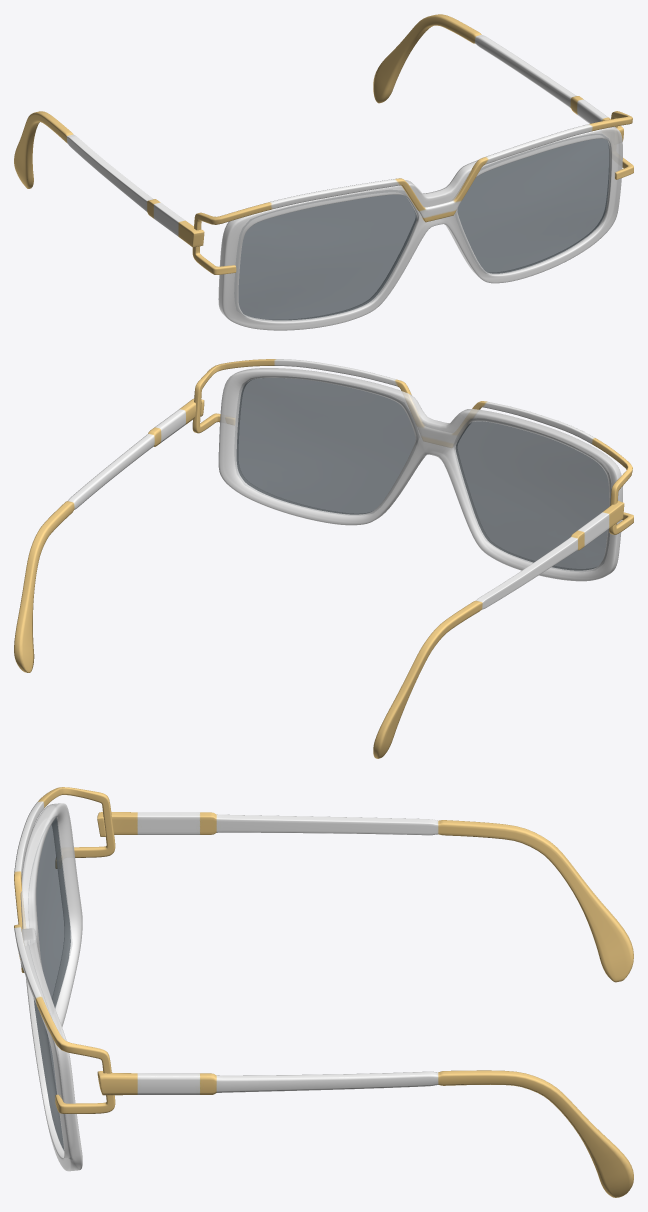
File: request_29_1776655847.glb
3 views of the same model, one above another, from view 1: azimuth 30°, elevation 25°; view 2: azimuth 150°, elevation 25°; view 3: azimuth 270°, elevation 25° (orthographic). The views are drawn at different scales.
Parts seen in each view (by area): view 1: Cube; view 2: Cube; view 3: Cube.
Boxes of the visible parts, x1,y1,x2,y2 form: Cube: (14,14,633,330); Cube: (14,359,633,758); Cube: (14,787,633,1197).
Bounding box in the file's own units: 506 × 172 × 500.
4 materials, 4 textured.
